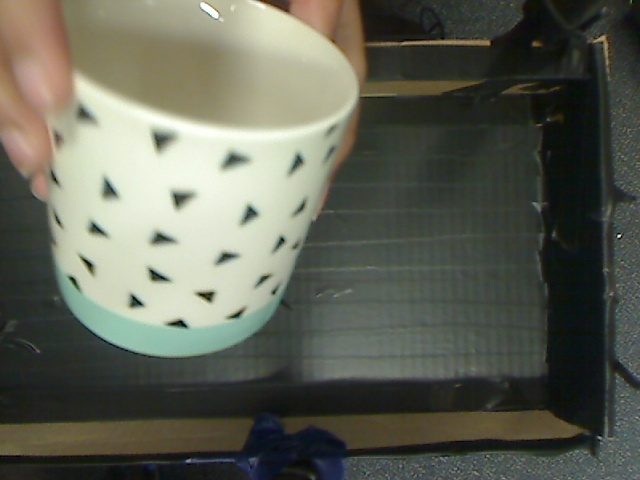mug: (17, 1, 333, 366)
